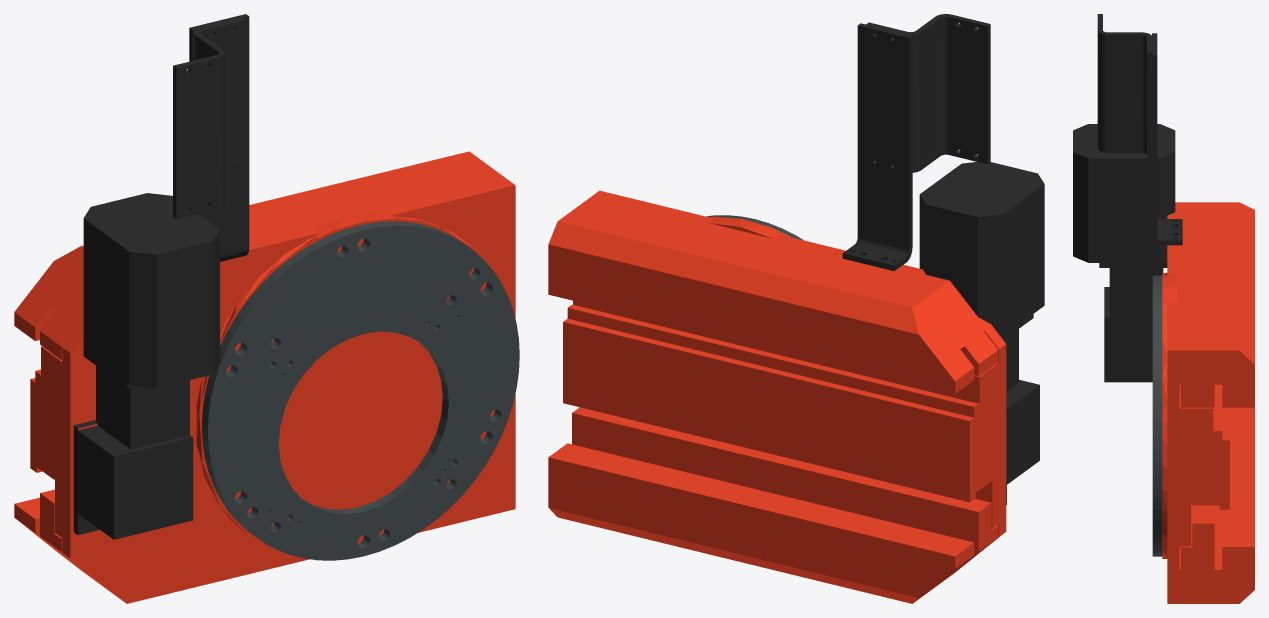
The model's file is rail_carriage.obj.
The picture shows the model from 3 angles, left to right: view 1: azimuth 30°, elevation 25°; view 2: azimuth 150°, elevation 25°; view 3: azimuth 270°, elevation 25°; orthographic projection. The views are drawn at different scales.
Bounding box in the file's own units: 0.7853 × 0.9631 × 0.3553.
